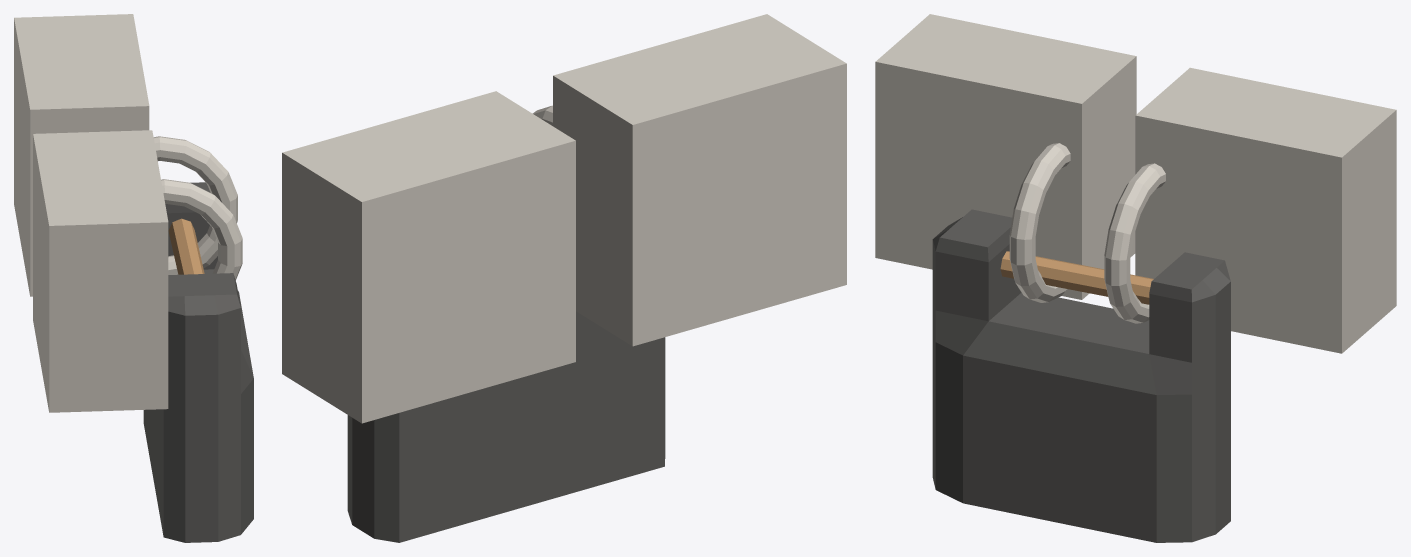
The model's file is lock.fbx.
The picture shows the model from 3 angles, left to right: view 1: azimuth 30°, elevation 25°; view 2: azimuth 150°, elevation 25°; view 3: azimuth 270°, elevation 25°; orthographic projection. The views are drawn at different scales.
Parts seen in each view (by area): view 1: lockbase_L, lock_down, lockbase_R, lock_up; view 2: lockbase_R, lockbase_L, lock_down; view 3: lock_down, lockbase_R, lockbase_L, lock_up.
Boxes of the visible parts, <box> form: lockbase_L: <box>33,130,242,412</box>; lock_down: <box>143,182,253,542</box>; lockbase_R: <box>14,14,237,296</box>; lock_up: <box>168,218,204,274</box>; lockbase_R: <box>282,91,575,423</box>; lockbase_L: <box>532,14,846,346</box>; lock_down: <box>347,311,665,542</box>; lock_down: <box>932,209,1230,542</box>; lockbase_R: <box>1104,67,1396,353</box>; lockbase_L: <box>875,14,1136,302</box>; lock_up: <box>1000,251,1153,304</box>.
Bounding box in the file's own units: 9.06 × 10.42 × 13.08.
